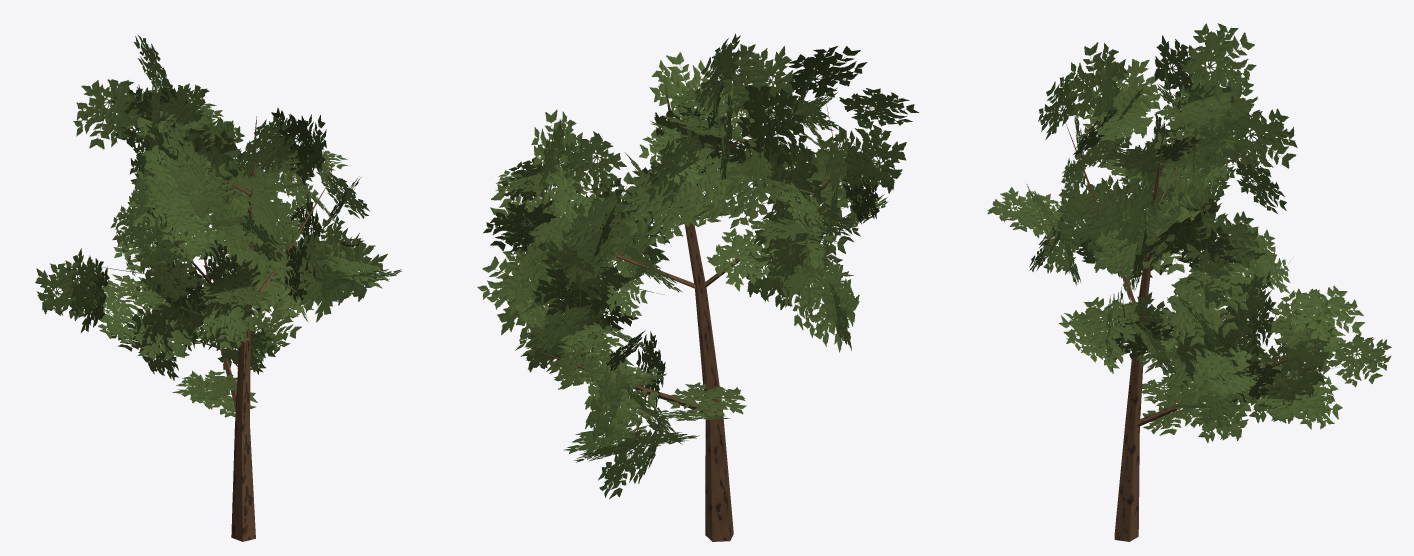
The model's file is forest-oak-c.obj.
3 renders of one model, left to right at view 1: azimuth 30°, elevation 25°; view 2: azimuth 150°, elevation 25°; view 3: azimuth 270°, elevation 25°, orthographic. The views are drawn at different scales.
Size of the model in its own units: 6.21 by 8.14 by 6.42.
Materials: 2 (2 with a texture image).
